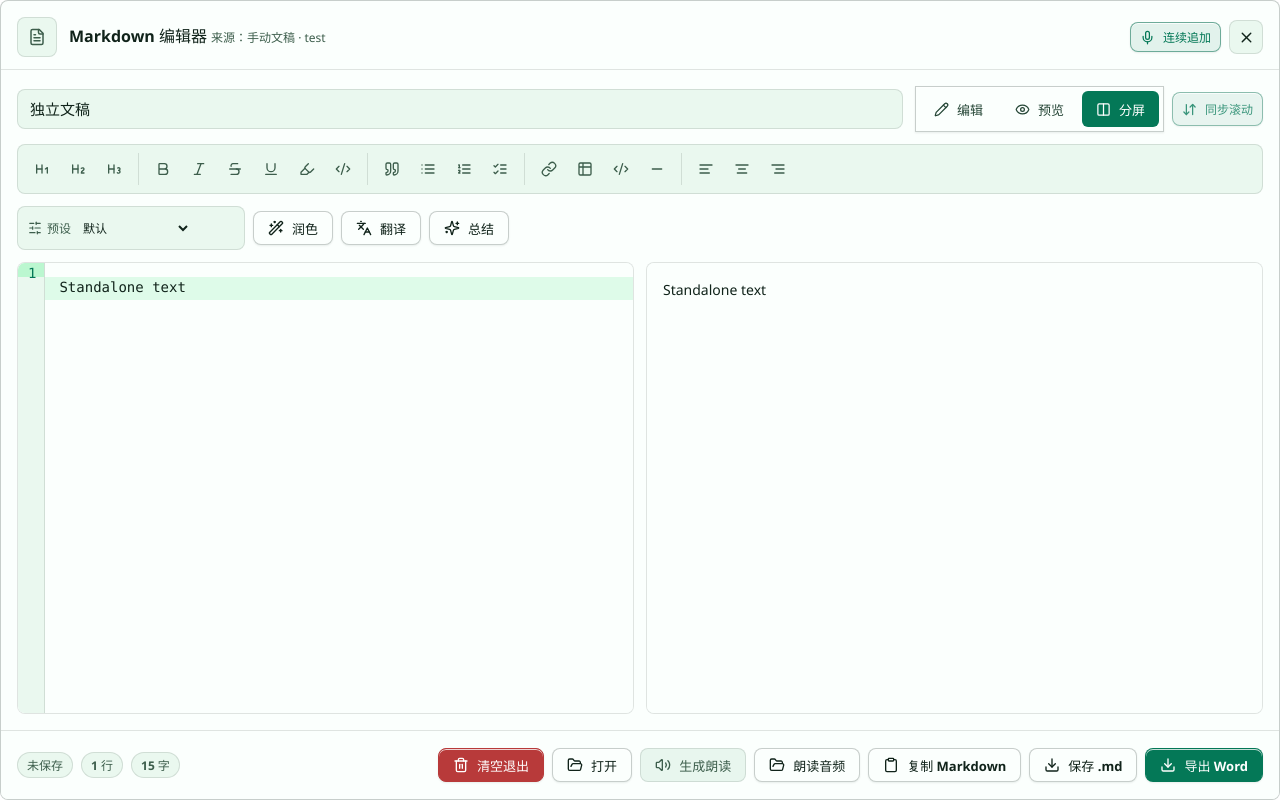
Test: standalone Markdown editor App entry › does not apply a consumed save result to a replacement draft
Click the button "保存 .md" at (1083, 765), box x1=1029 y1=748 x2=1137 y2=782
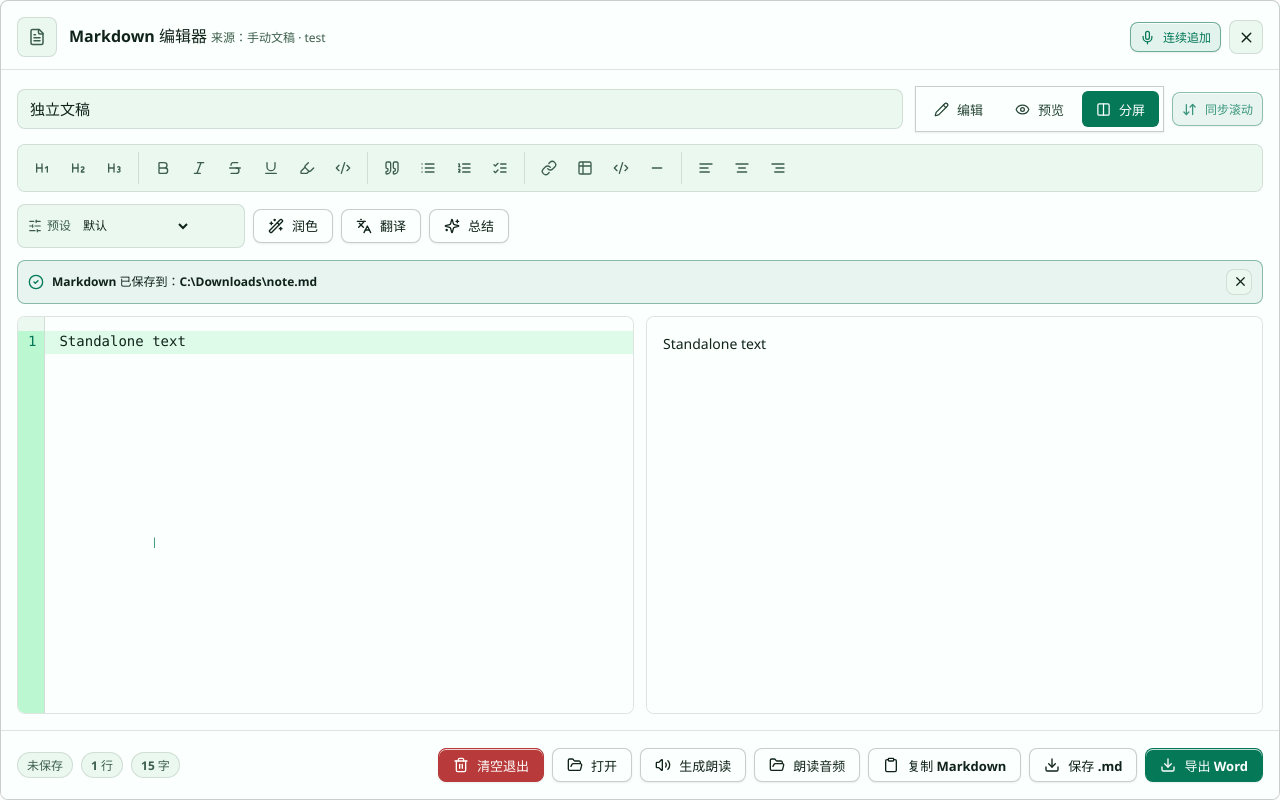
expect the text "replacement" is shown: met, box x1=211 y1=30 x2=326 y2=47
expect the message shows "Markdown 已保存到": met, box x1=52 y1=273 x2=317 y2=290
